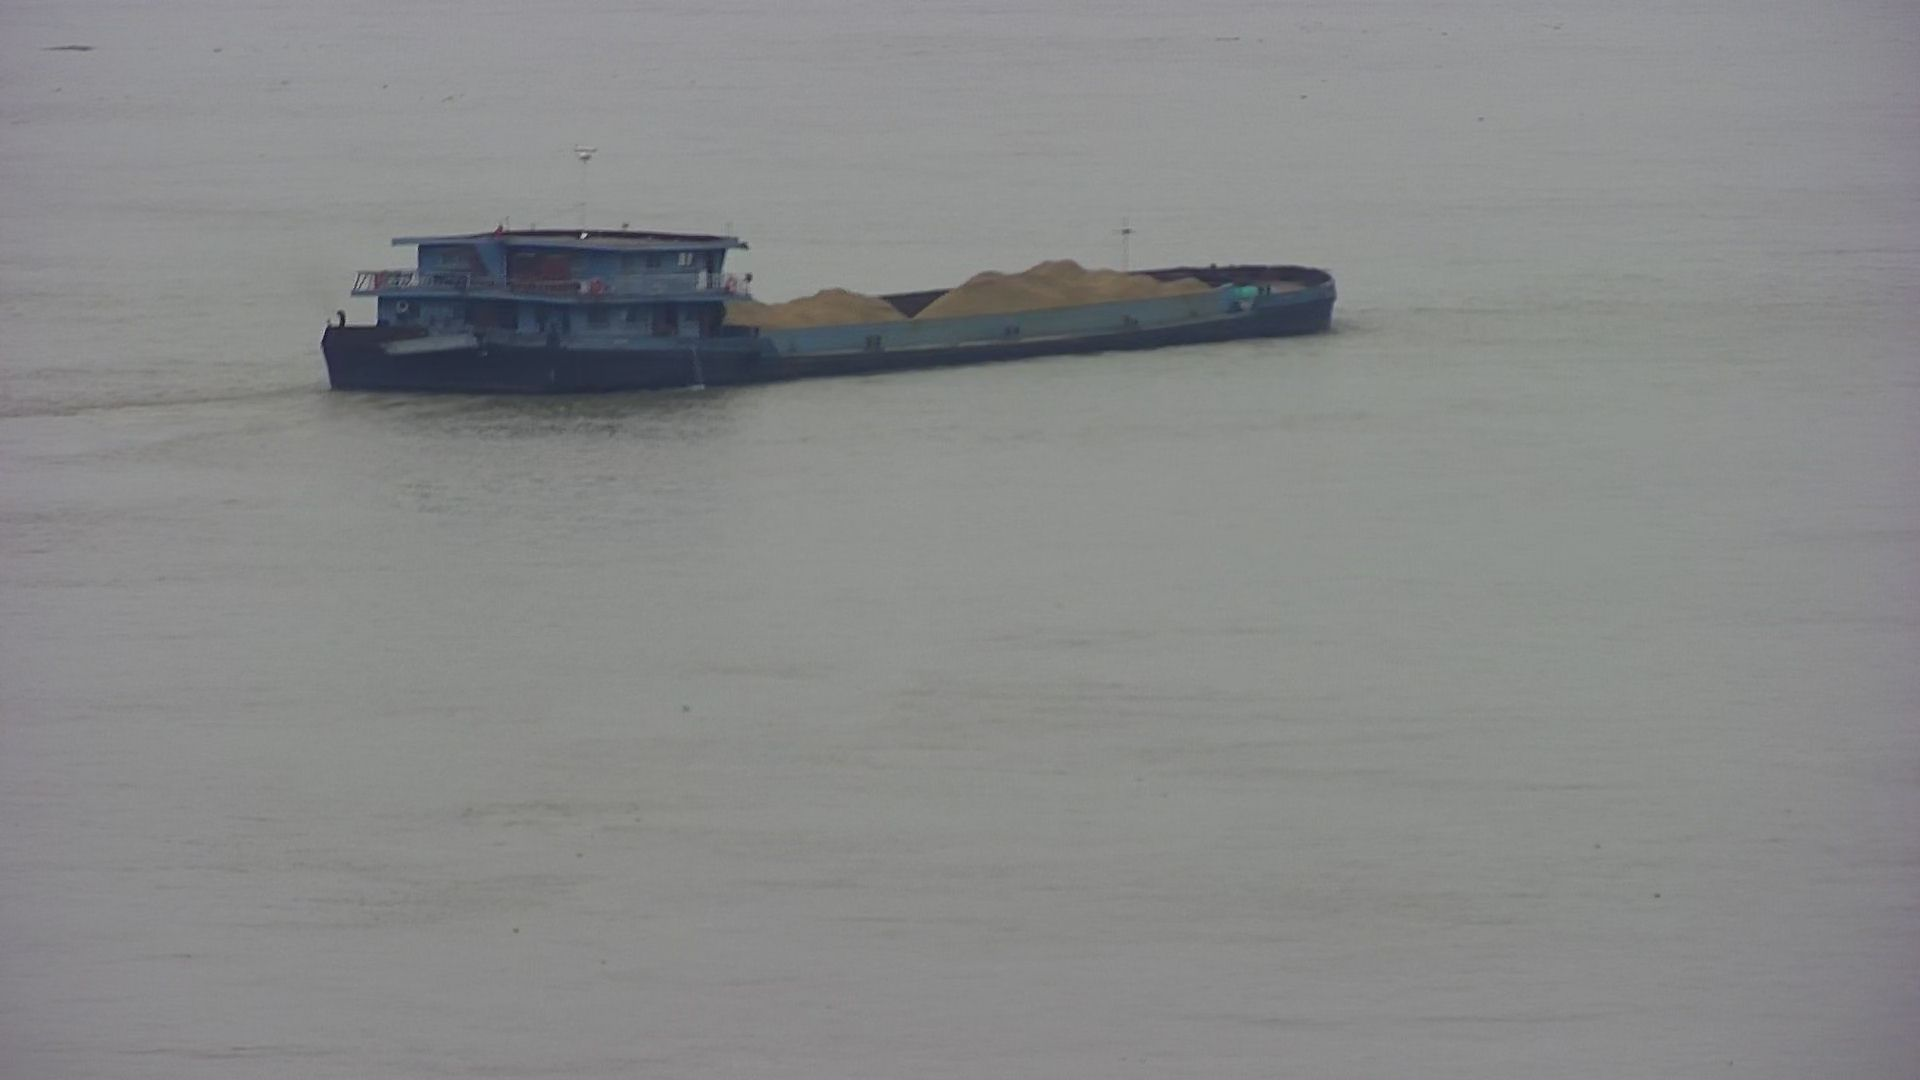ship: (314, 206, 1346, 406)
